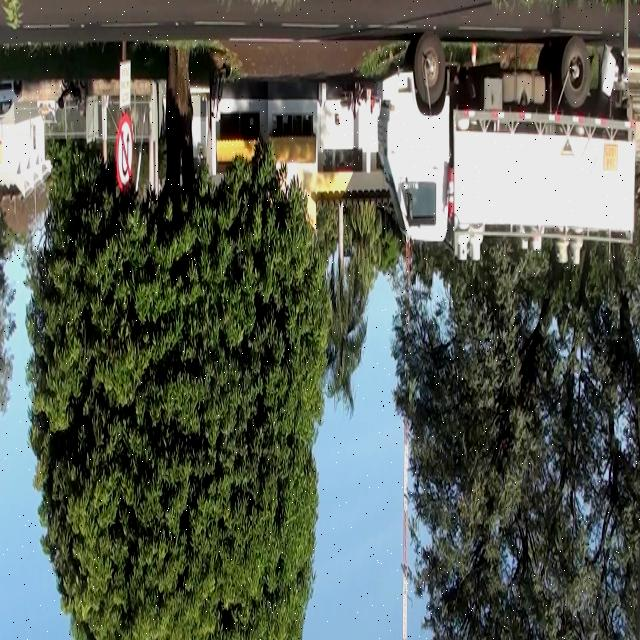-axle: (414, 36, 446, 106), (560, 39, 590, 111)
